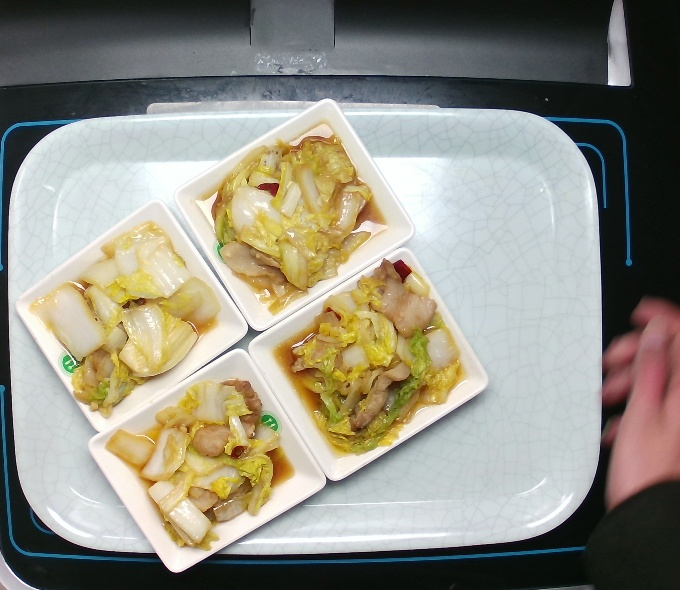wcq-DaBaiCaiRouPian: (25, 214, 219, 421), (291, 251, 465, 460), (195, 124, 374, 324), (100, 377, 289, 554)
